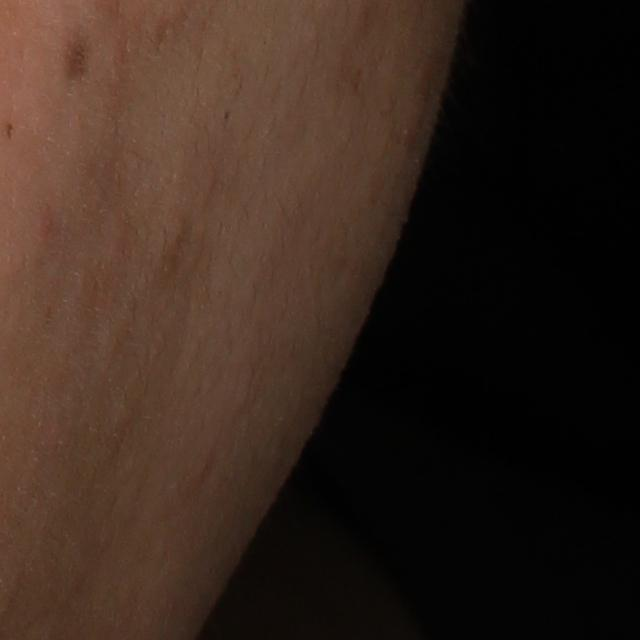nevus: (63, 19, 102, 92)
